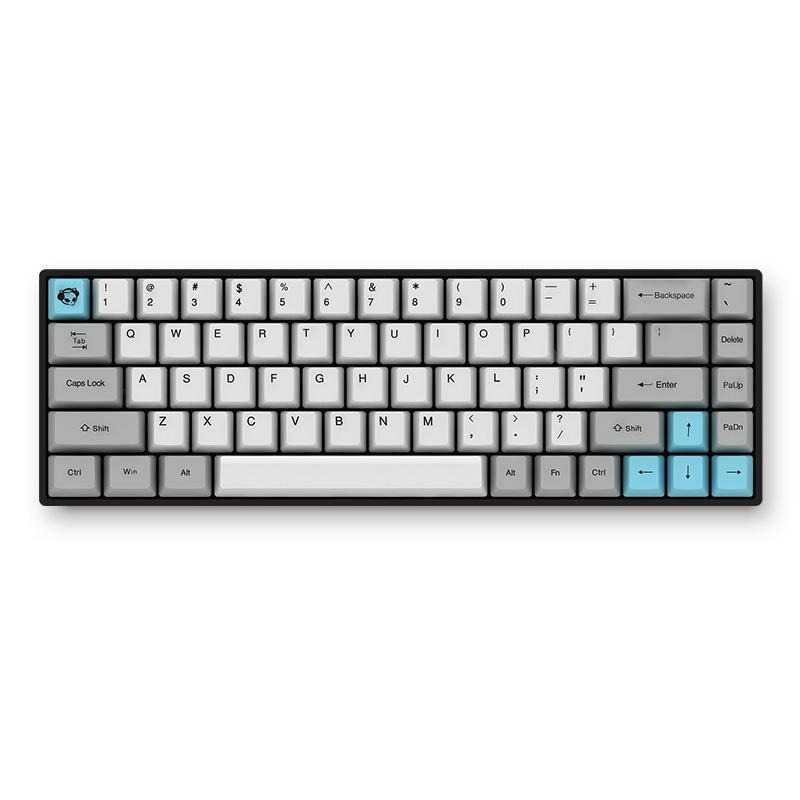keyboard: (42, 274, 760, 503)
